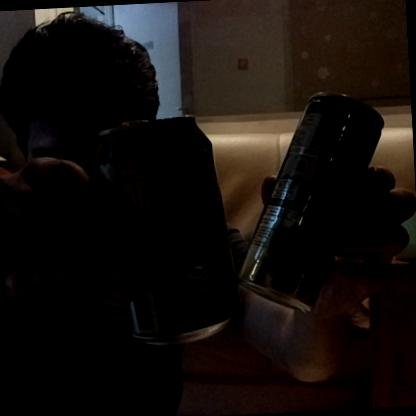alumunium_can: (222, 92, 392, 313), (92, 110, 246, 350)
